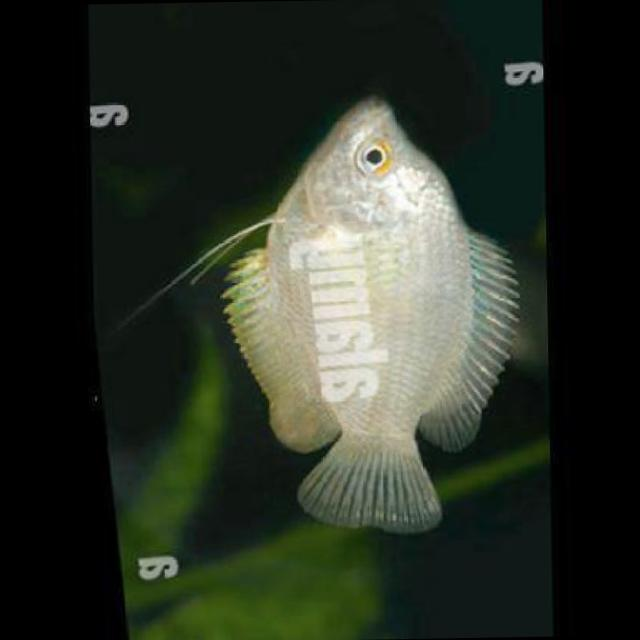Gourami: (215, 92, 523, 540)
